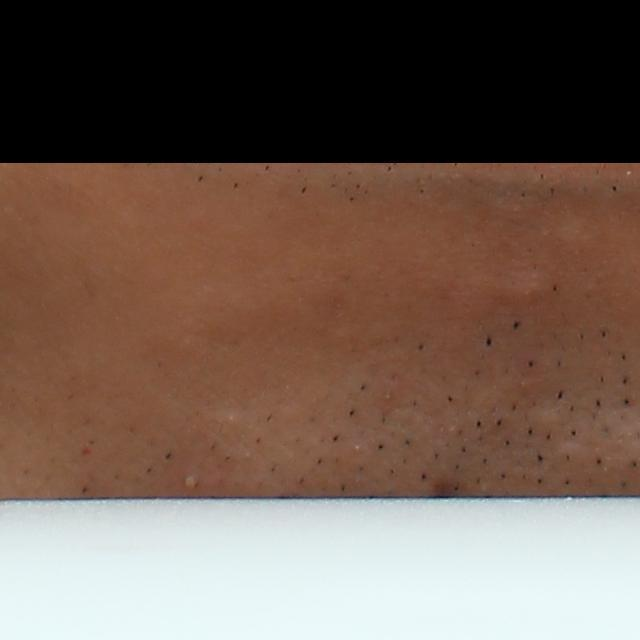hypertrophic_scar: (552, 210, 609, 250)
papule: (503, 272, 550, 309)
